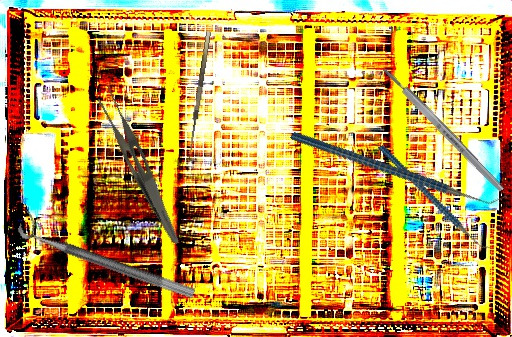Chopper: (289, 68, 509, 266), (377, 120, 495, 274)
Dressing Forceps: (86, 82, 197, 246)
Fixation Ring: (15, 208, 202, 301)
Hook Surgical: (185, 30, 219, 163)
Scalpel Handle: (380, 65, 506, 194)
